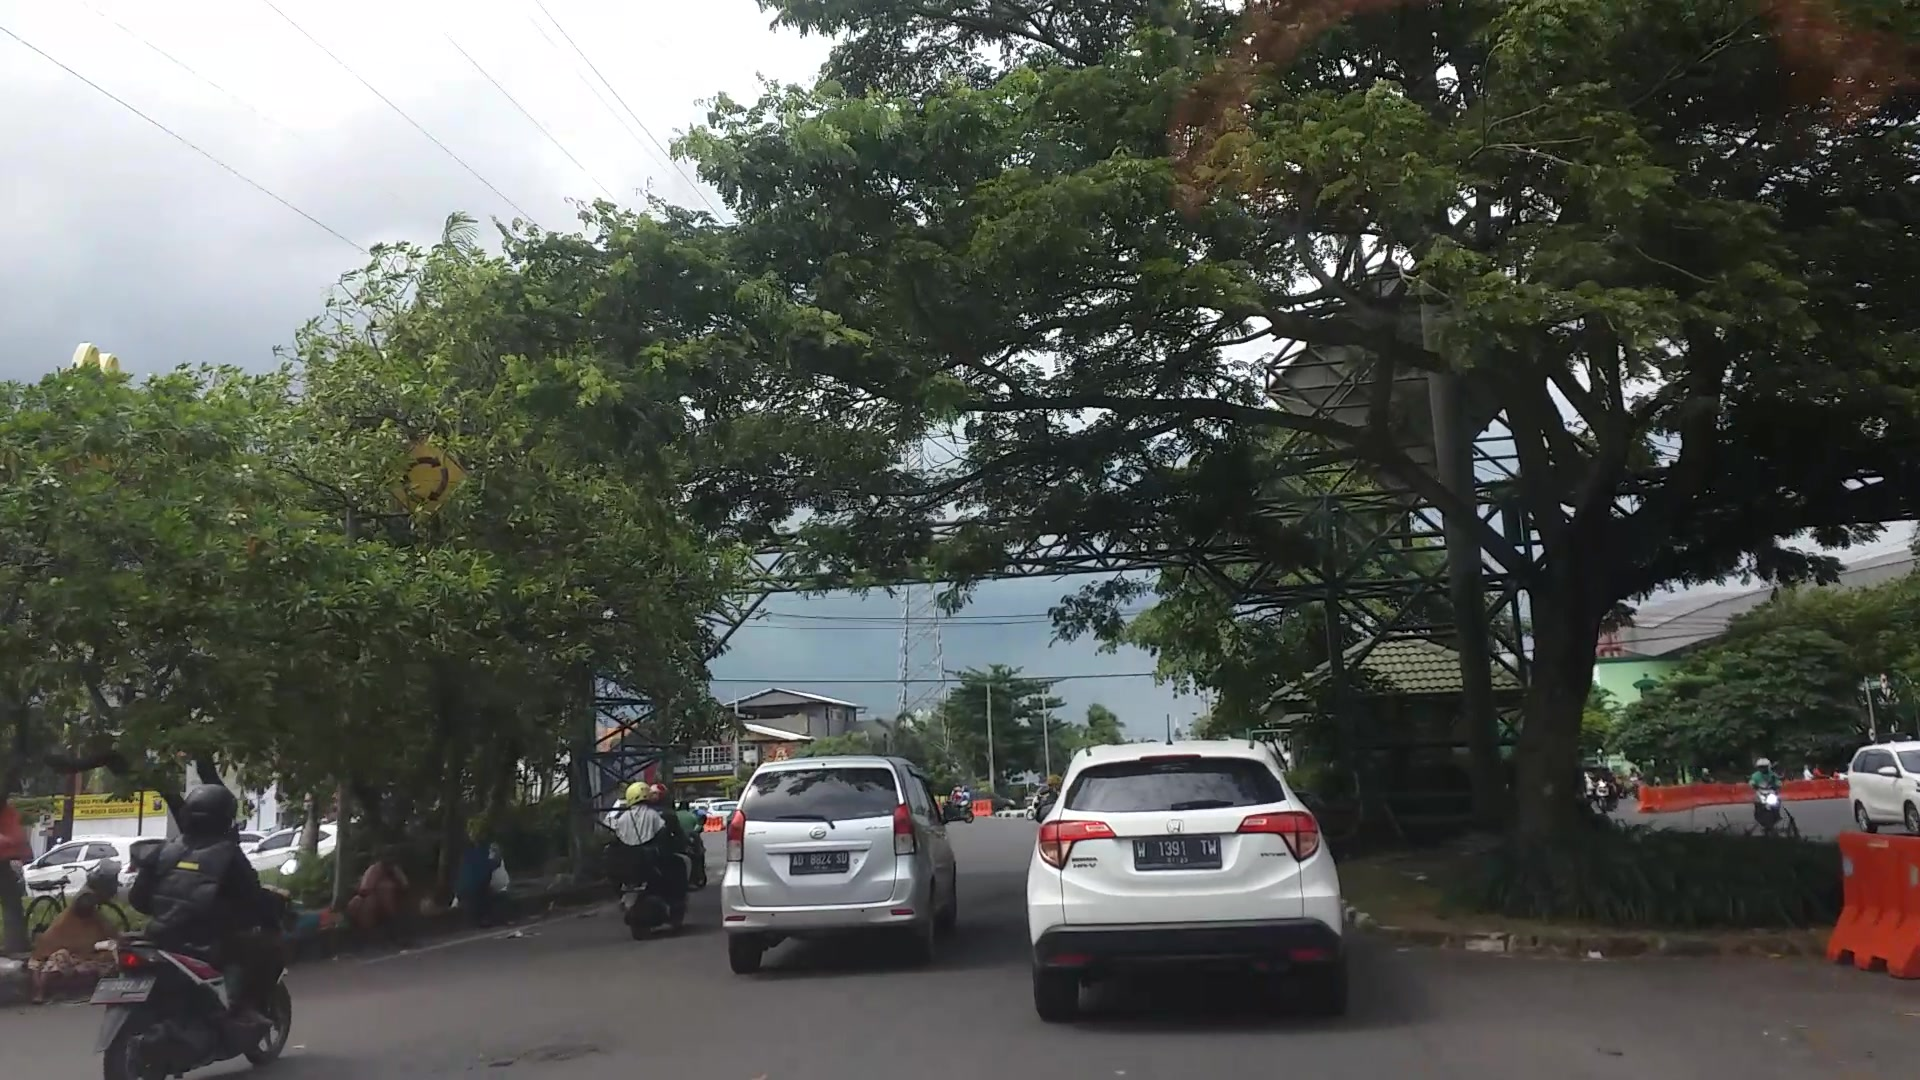plate_positive: (1133, 837, 1222, 868), (789, 852, 851, 874)
